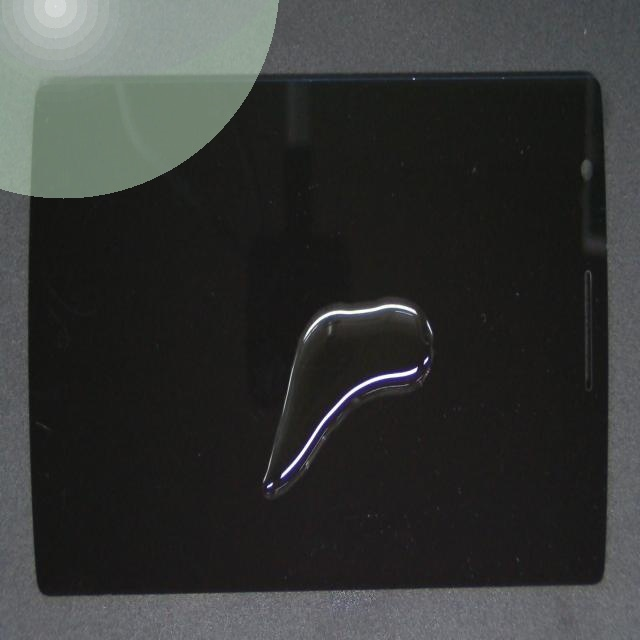oil: (206, 213, 640, 529)
